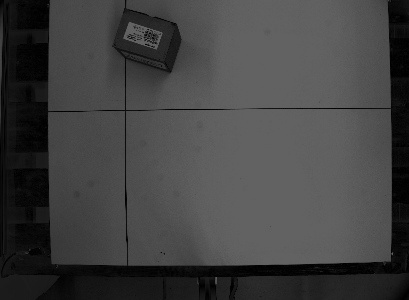b5: (109, 6, 187, 76)
